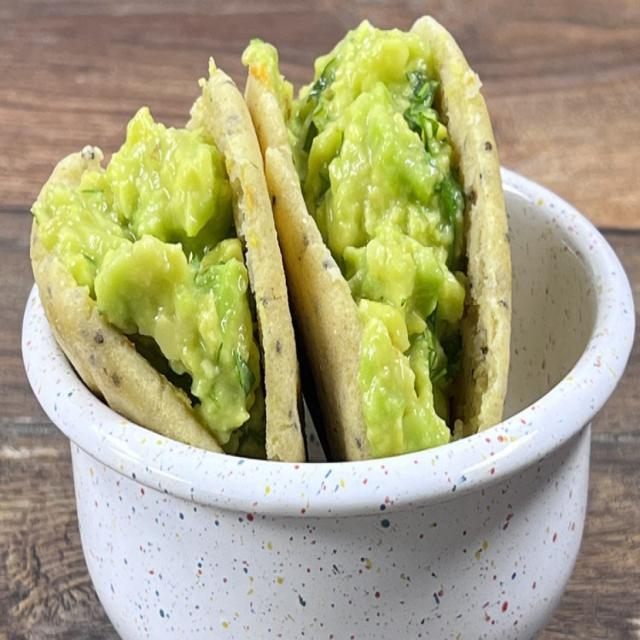aguacate: (272, 30, 477, 271), (59, 119, 251, 366)
